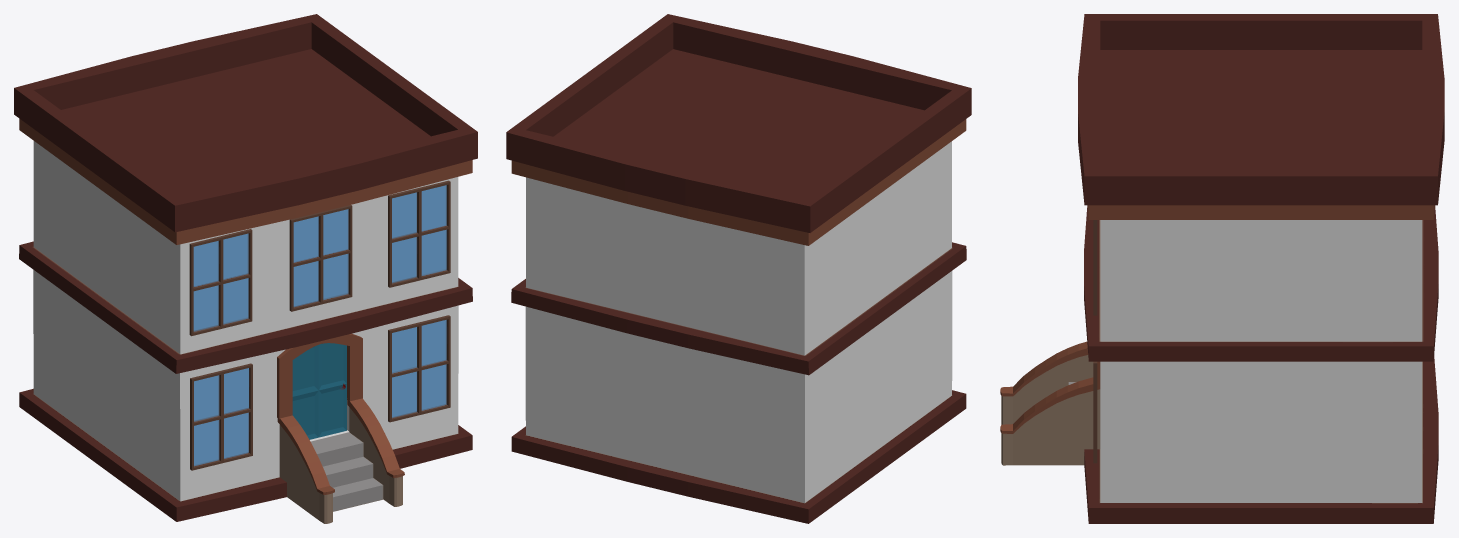
The model's file is House 2.fbx.
3 views of the same model, side by side, from view 1: azimuth 30°, elevation 25°; view 2: azimuth 150°, elevation 25°; view 3: azimuth 270°, elevation 25° (orthographic). The views are drawn at different scales.
Parts seen in each view (by area): view 1: Houes 2; view 2: Houes 2; view 3: Houes 2.
Part boxes in pixels (x1,y1,x2,y2): Houes 2: [14, 14, 477, 523]; Houes 2: [506, 14, 971, 523]; Houes 2: [1000, 14, 1444, 523].
Bounding box in the file's own units: 4648 × 4671 × 5379.
11 materials, 10 textured.
